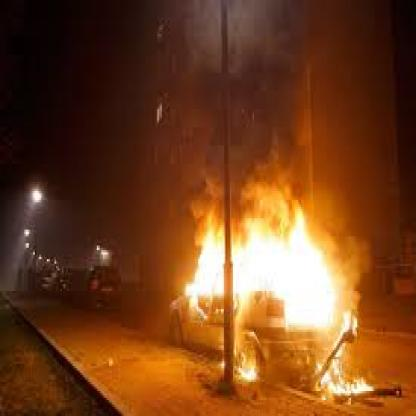fire: (189, 181, 354, 384)
